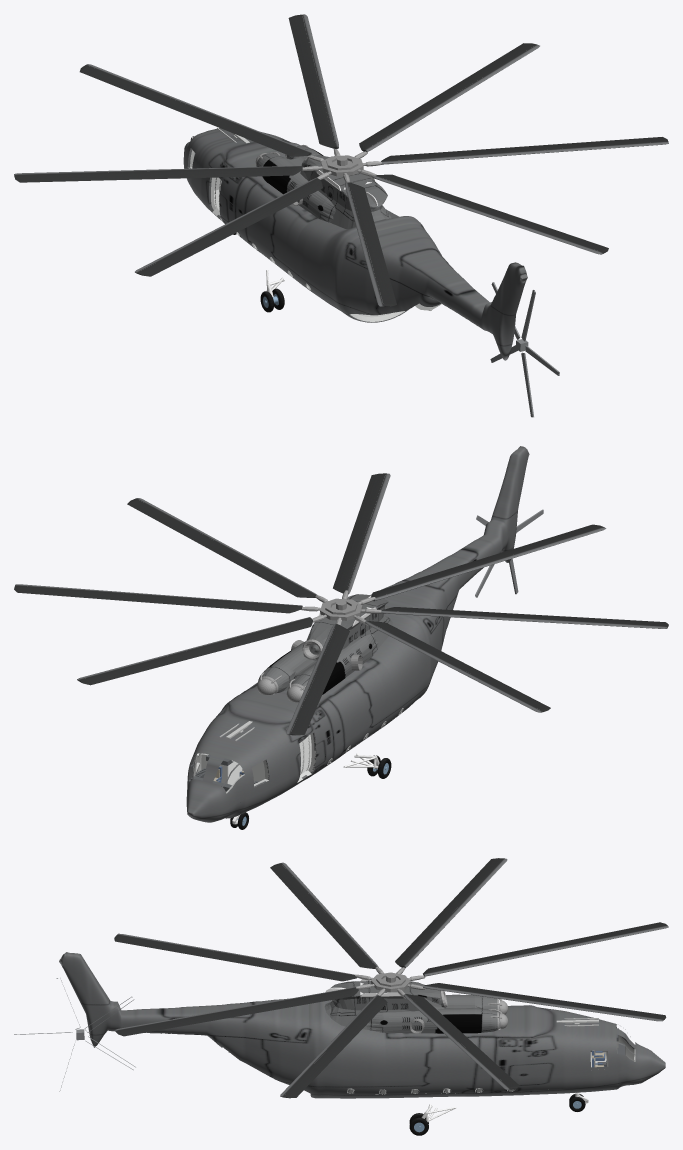
3 renders of one model, top to bottom at view 1: azimuth 30°, elevation 25°; view 2: azimuth 150°, elevation 25°; view 3: azimuth 270°, elevation 25°, orthographic. The views are drawn at different scales.
Parts seen in each view (by area): view 1: heli_mi26; view 2: heli_mi26; view 3: heli_mi26.
Boxes of the visible parts, x1,y1,x2,y2 form: heli_mi26: (14,14,668,417); heli_mi26: (14,446,668,829); heli_mi26: (14,858,668,1135).
Size of the model in its own units: 83.48 by 26.09 by 98.26.
Materials: 24 (7 with a texture image).
